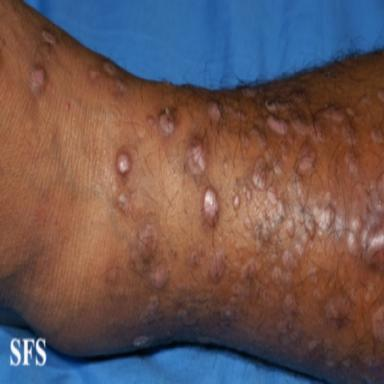Epidermolysis-Bullosa-Pruriginosa: (241, 86, 384, 332), (131, 217, 169, 324), (318, 106, 355, 148), (147, 106, 175, 138), (103, 61, 127, 92), (185, 140, 205, 177), (203, 189, 218, 224), (209, 250, 225, 282), (372, 306, 384, 341), (223, 104, 245, 122), (31, 68, 45, 94), (371, 116, 384, 144), (116, 151, 131, 175), (189, 245, 205, 266), (207, 101, 221, 124), (343, 151, 359, 170), (117, 191, 129, 212), (133, 336, 154, 348), (42, 33, 56, 46), (377, 90, 384, 106), (233, 194, 239, 209), (89, 70, 98, 79)
